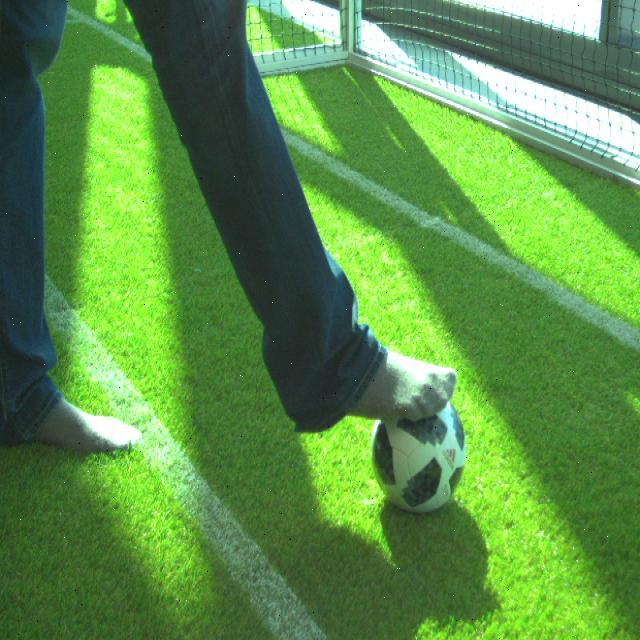ball: (371, 393, 466, 515)
